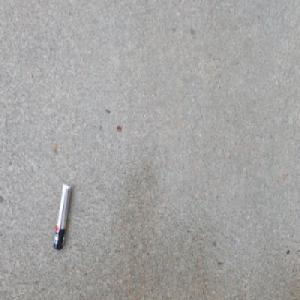Battery: (51, 181, 72, 252)
